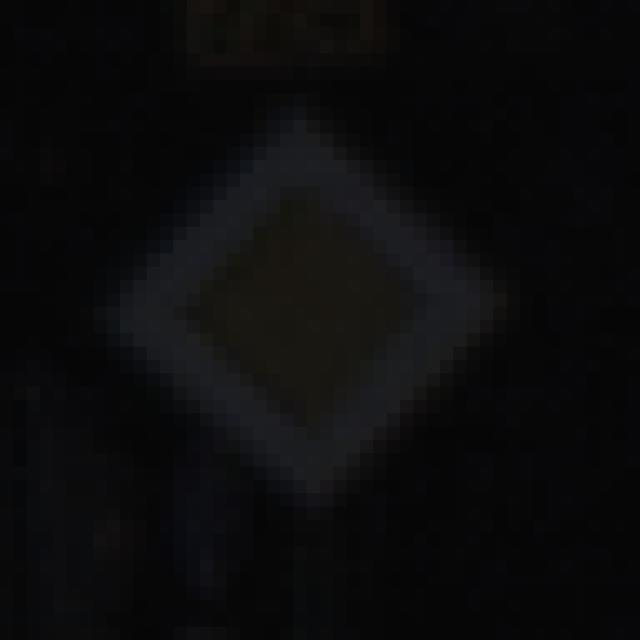Main Road: (68, 68, 574, 574)
